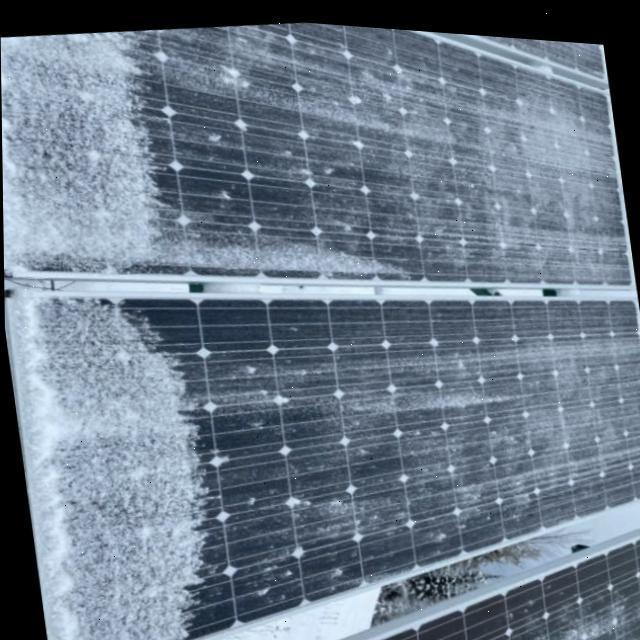Anomaly Solar Panel: (3, 287, 640, 640), (0, 17, 633, 281), (474, 28, 608, 71)
Snow: (0, 28, 205, 640), (473, 28, 606, 70)
